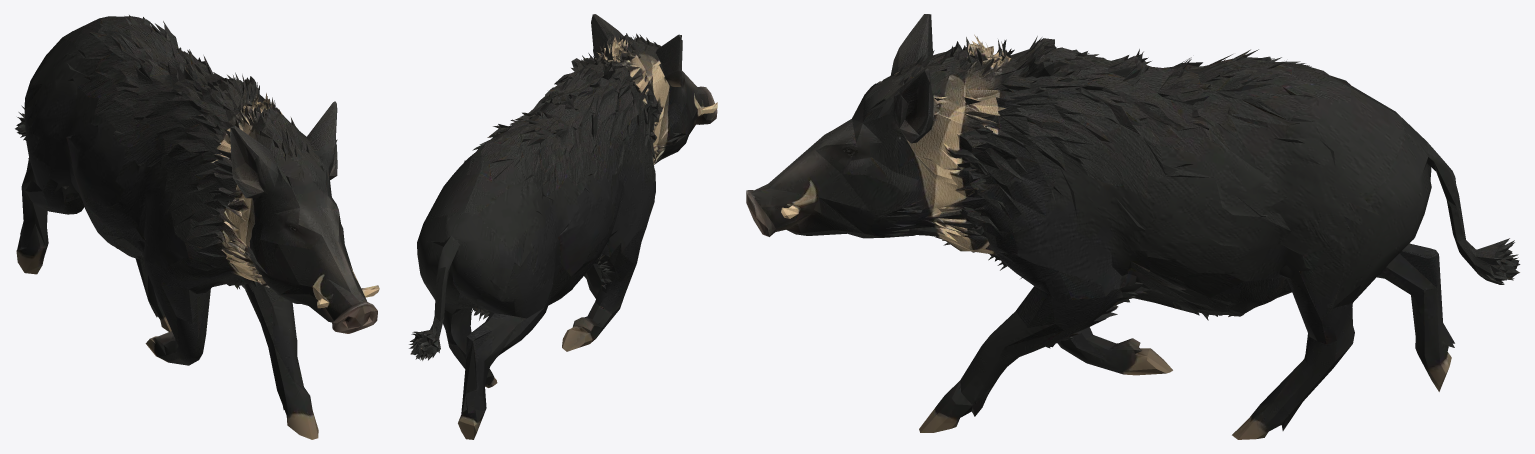
Rendered from fauna_boar.glb.
3 renders of one model, left to right at view 1: azimuth 30°, elevation 25°; view 2: azimuth 150°, elevation 25°; view 3: azimuth 270°, elevation 25°, orthographic. The views are drawn at different scales.
Size of the model in its own units: 0.4742 by 1.02 by 1.89.
Materials: 1 (1 with a texture image).
